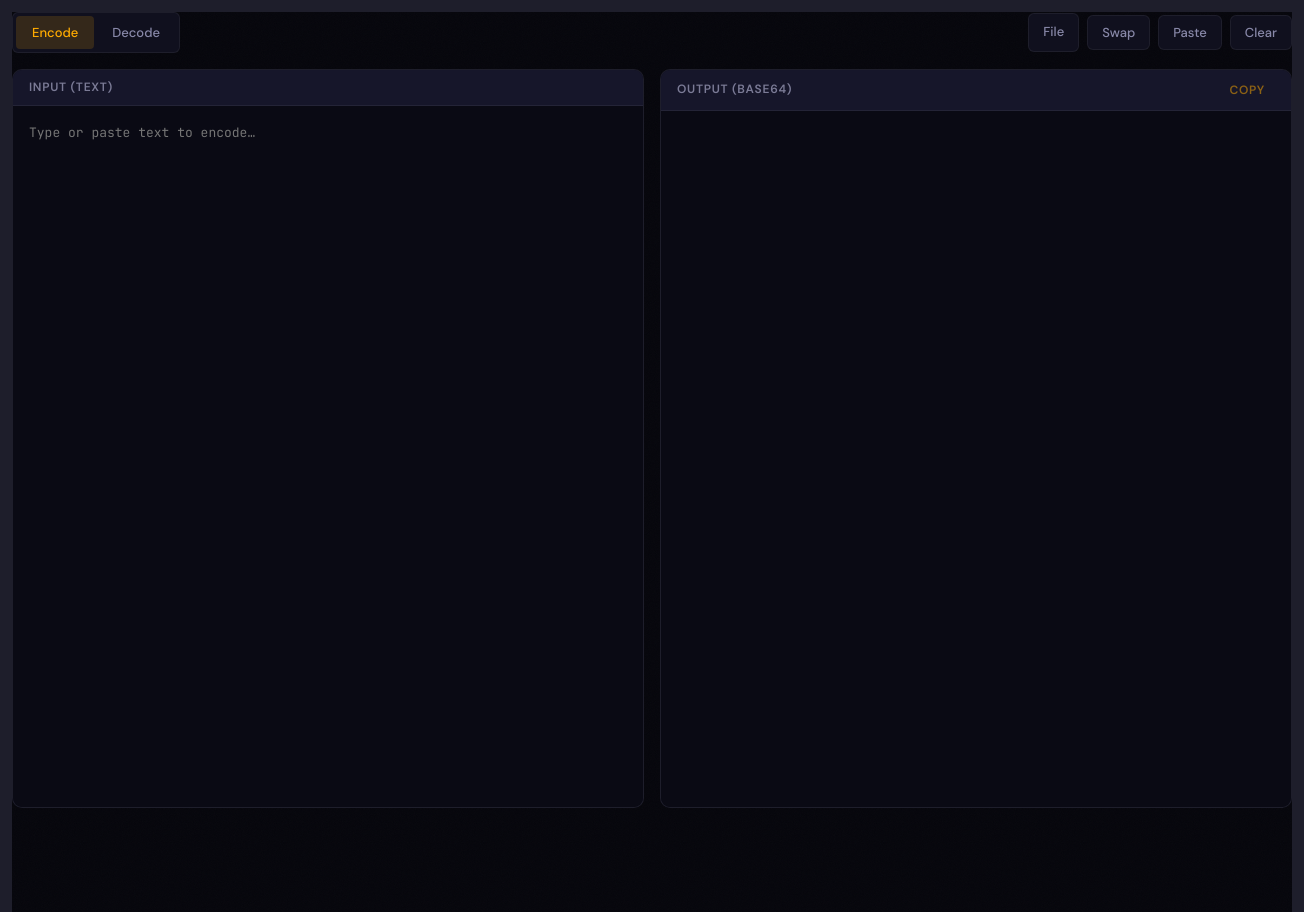
Test: Base64Codec › shows error for invalid base64
Click the tab "Decode" at point(136, 32), box top-left (96, 16), bottom-right (176, 49)
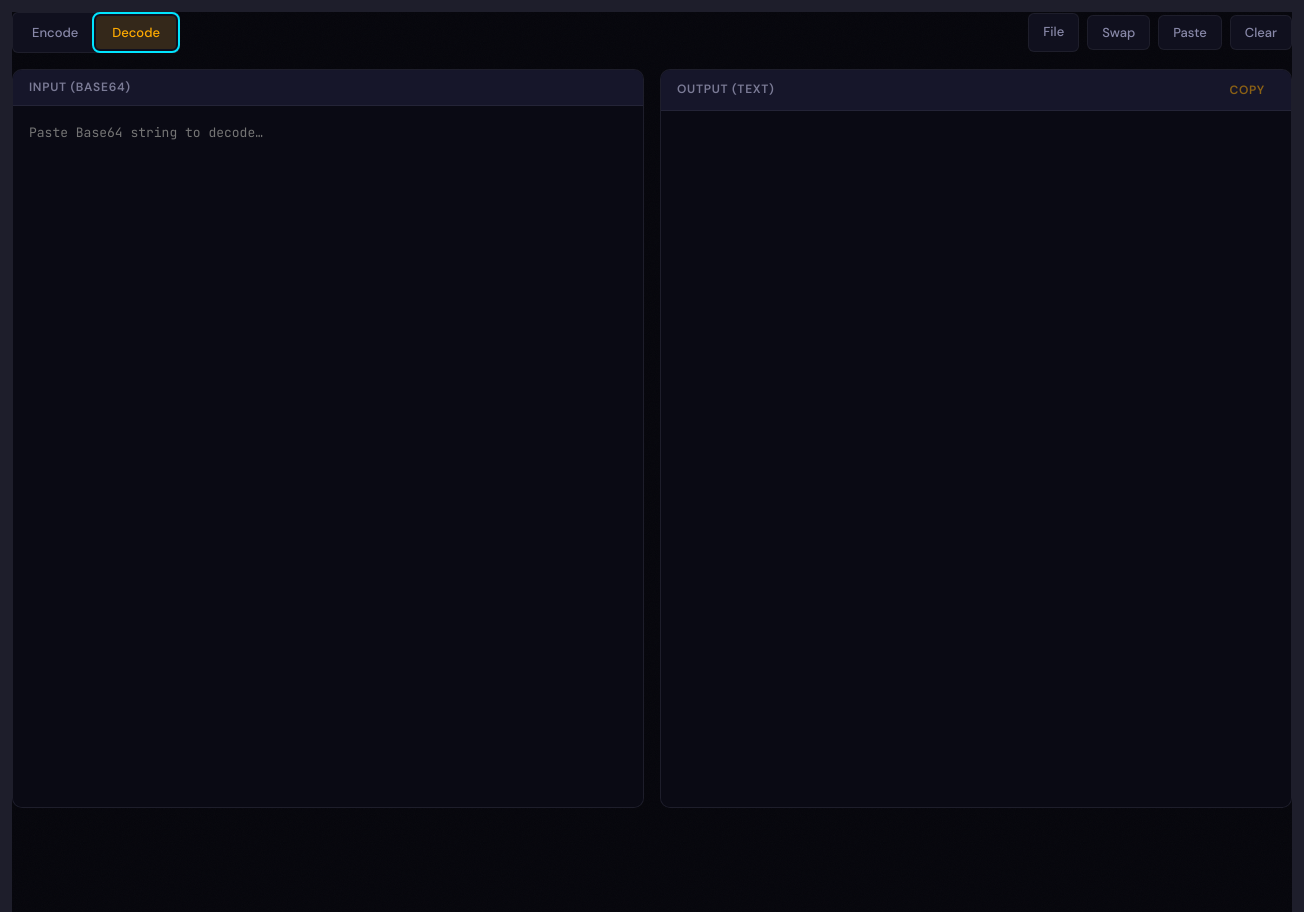
Type "!!!not-valid!!!" into the text box named "base64 input" at point(328, 457), box top-left (13, 106), bottom-right (643, 807)
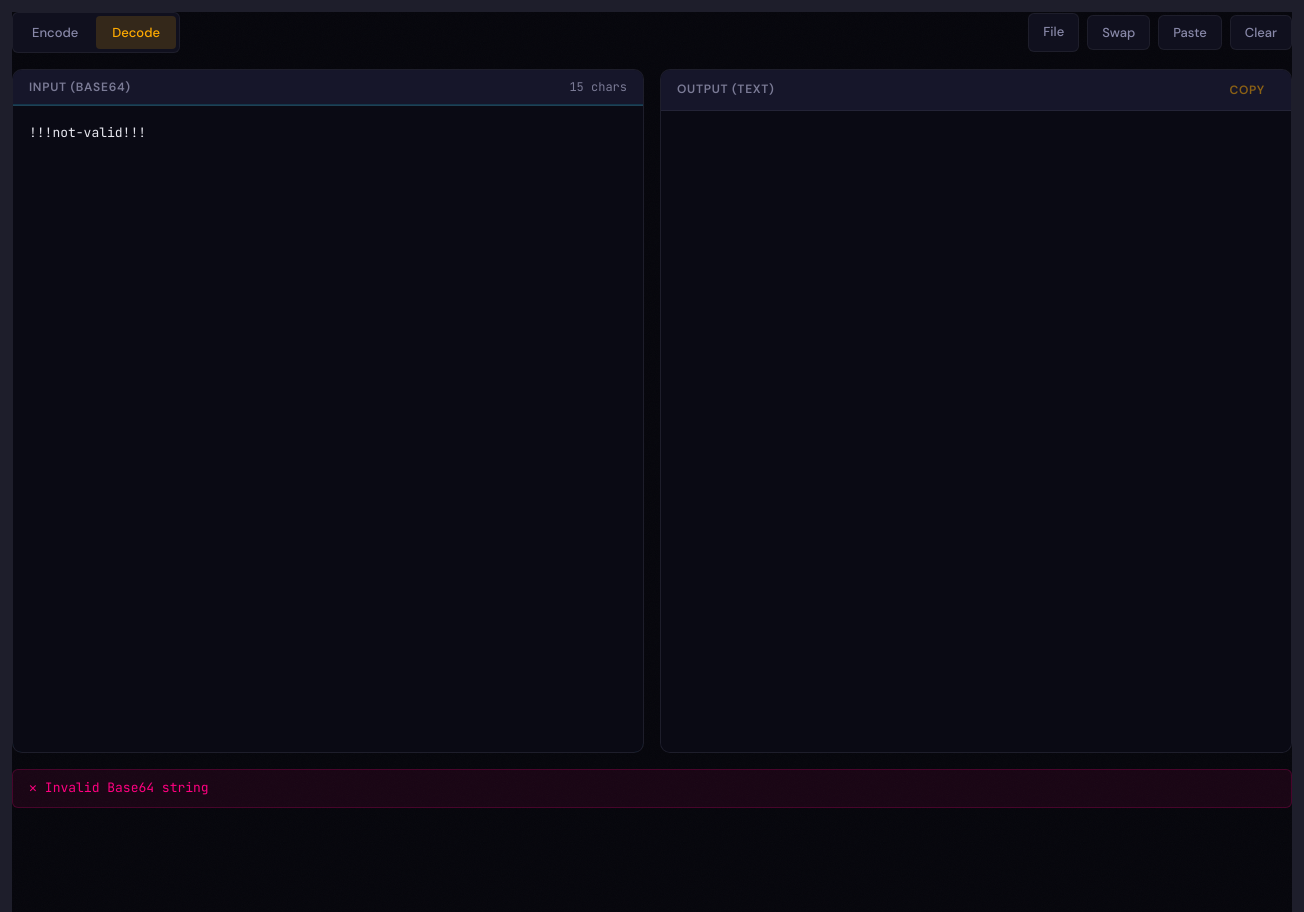
Check: the message shows "Invalid Base64", box top-left (45, 779), bottom-right (209, 796)
